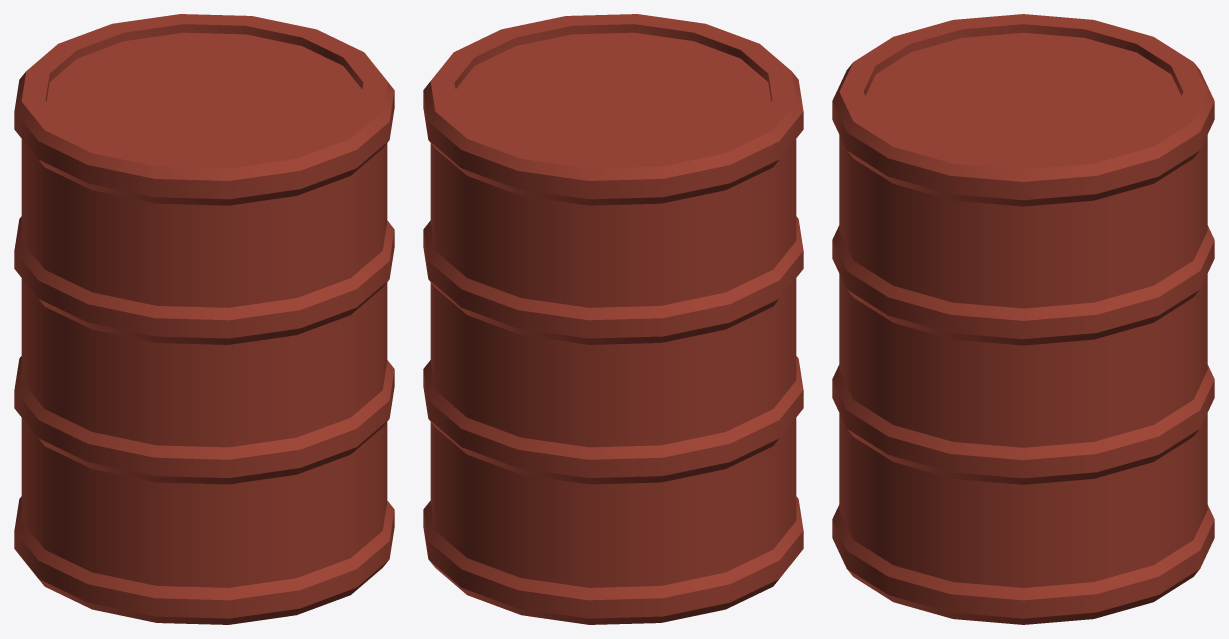
File: barrel.gltf
3 renders of one model, left to right at view 1: azimuth 30°, elevation 25°; view 2: azimuth 150°, elevation 25°; view 3: azimuth 270°, elevation 25°, orthographic.
Visible parts, largest first — view 1: Barrel; view 2: Barrel; view 3: Barrel.
Boxes of the visible parts, x1=… form: Barrel: x1=14, y1=14, x2=394, y2=624; Barrel: x1=423, y1=14, x2=803, y2=624; Barrel: x1=832, y1=14, x2=1214, y2=624.
Bounding box in the file's own units: 2.52 × 3.31 × 2.52.
